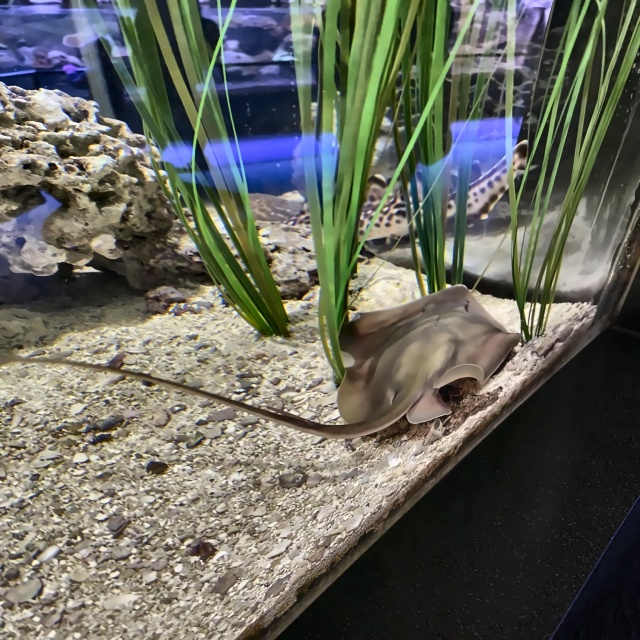stingray: (332, 285, 524, 448)
